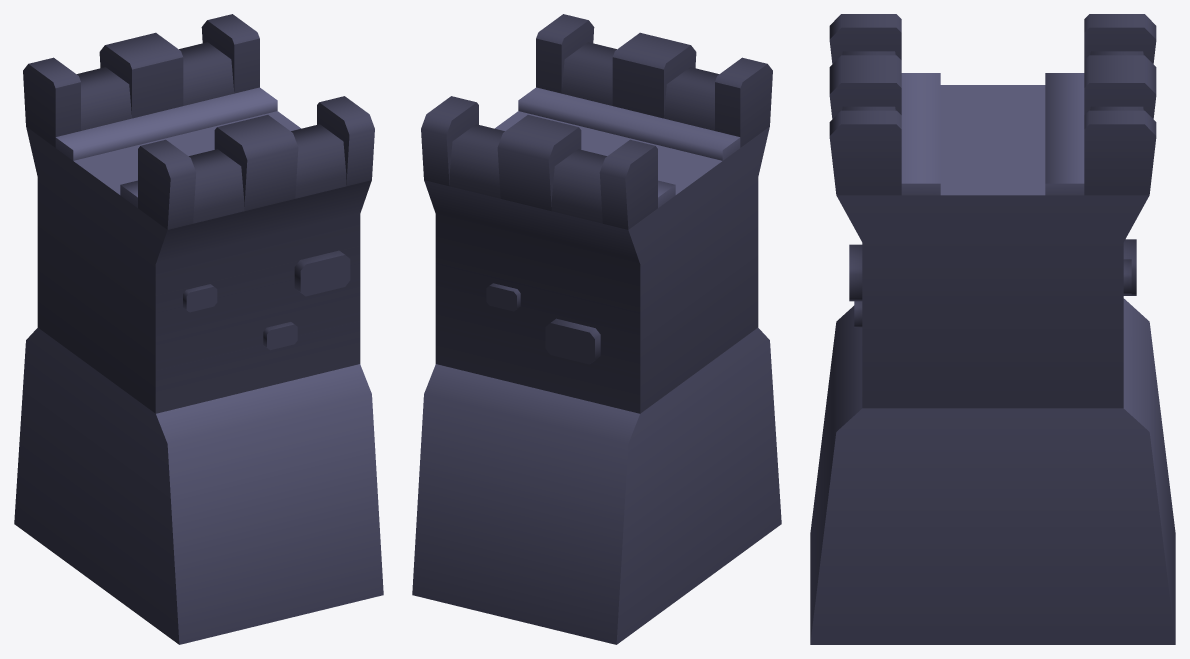
File: castle-wall.fbx
3 views of the same model, side by side, from view 1: azimuth 30°, elevation 25°; view 2: azimuth 150°, elevation 25°; view 3: azimuth 270°, elevation 25° (orthographic). The views are drawn at different scales.
Parts seen in each view (by area): view 1: castle-wall; view 2: castle-wall; view 3: castle-wall.
Boxes of the visible parts, x1,y1,x2,y2 form: castle-wall: (14, 14, 383, 644); castle-wall: (412, 14, 781, 644); castle-wall: (810, 14, 1175, 644).
Size of the model in its own units: 200 by 440 by 280.
